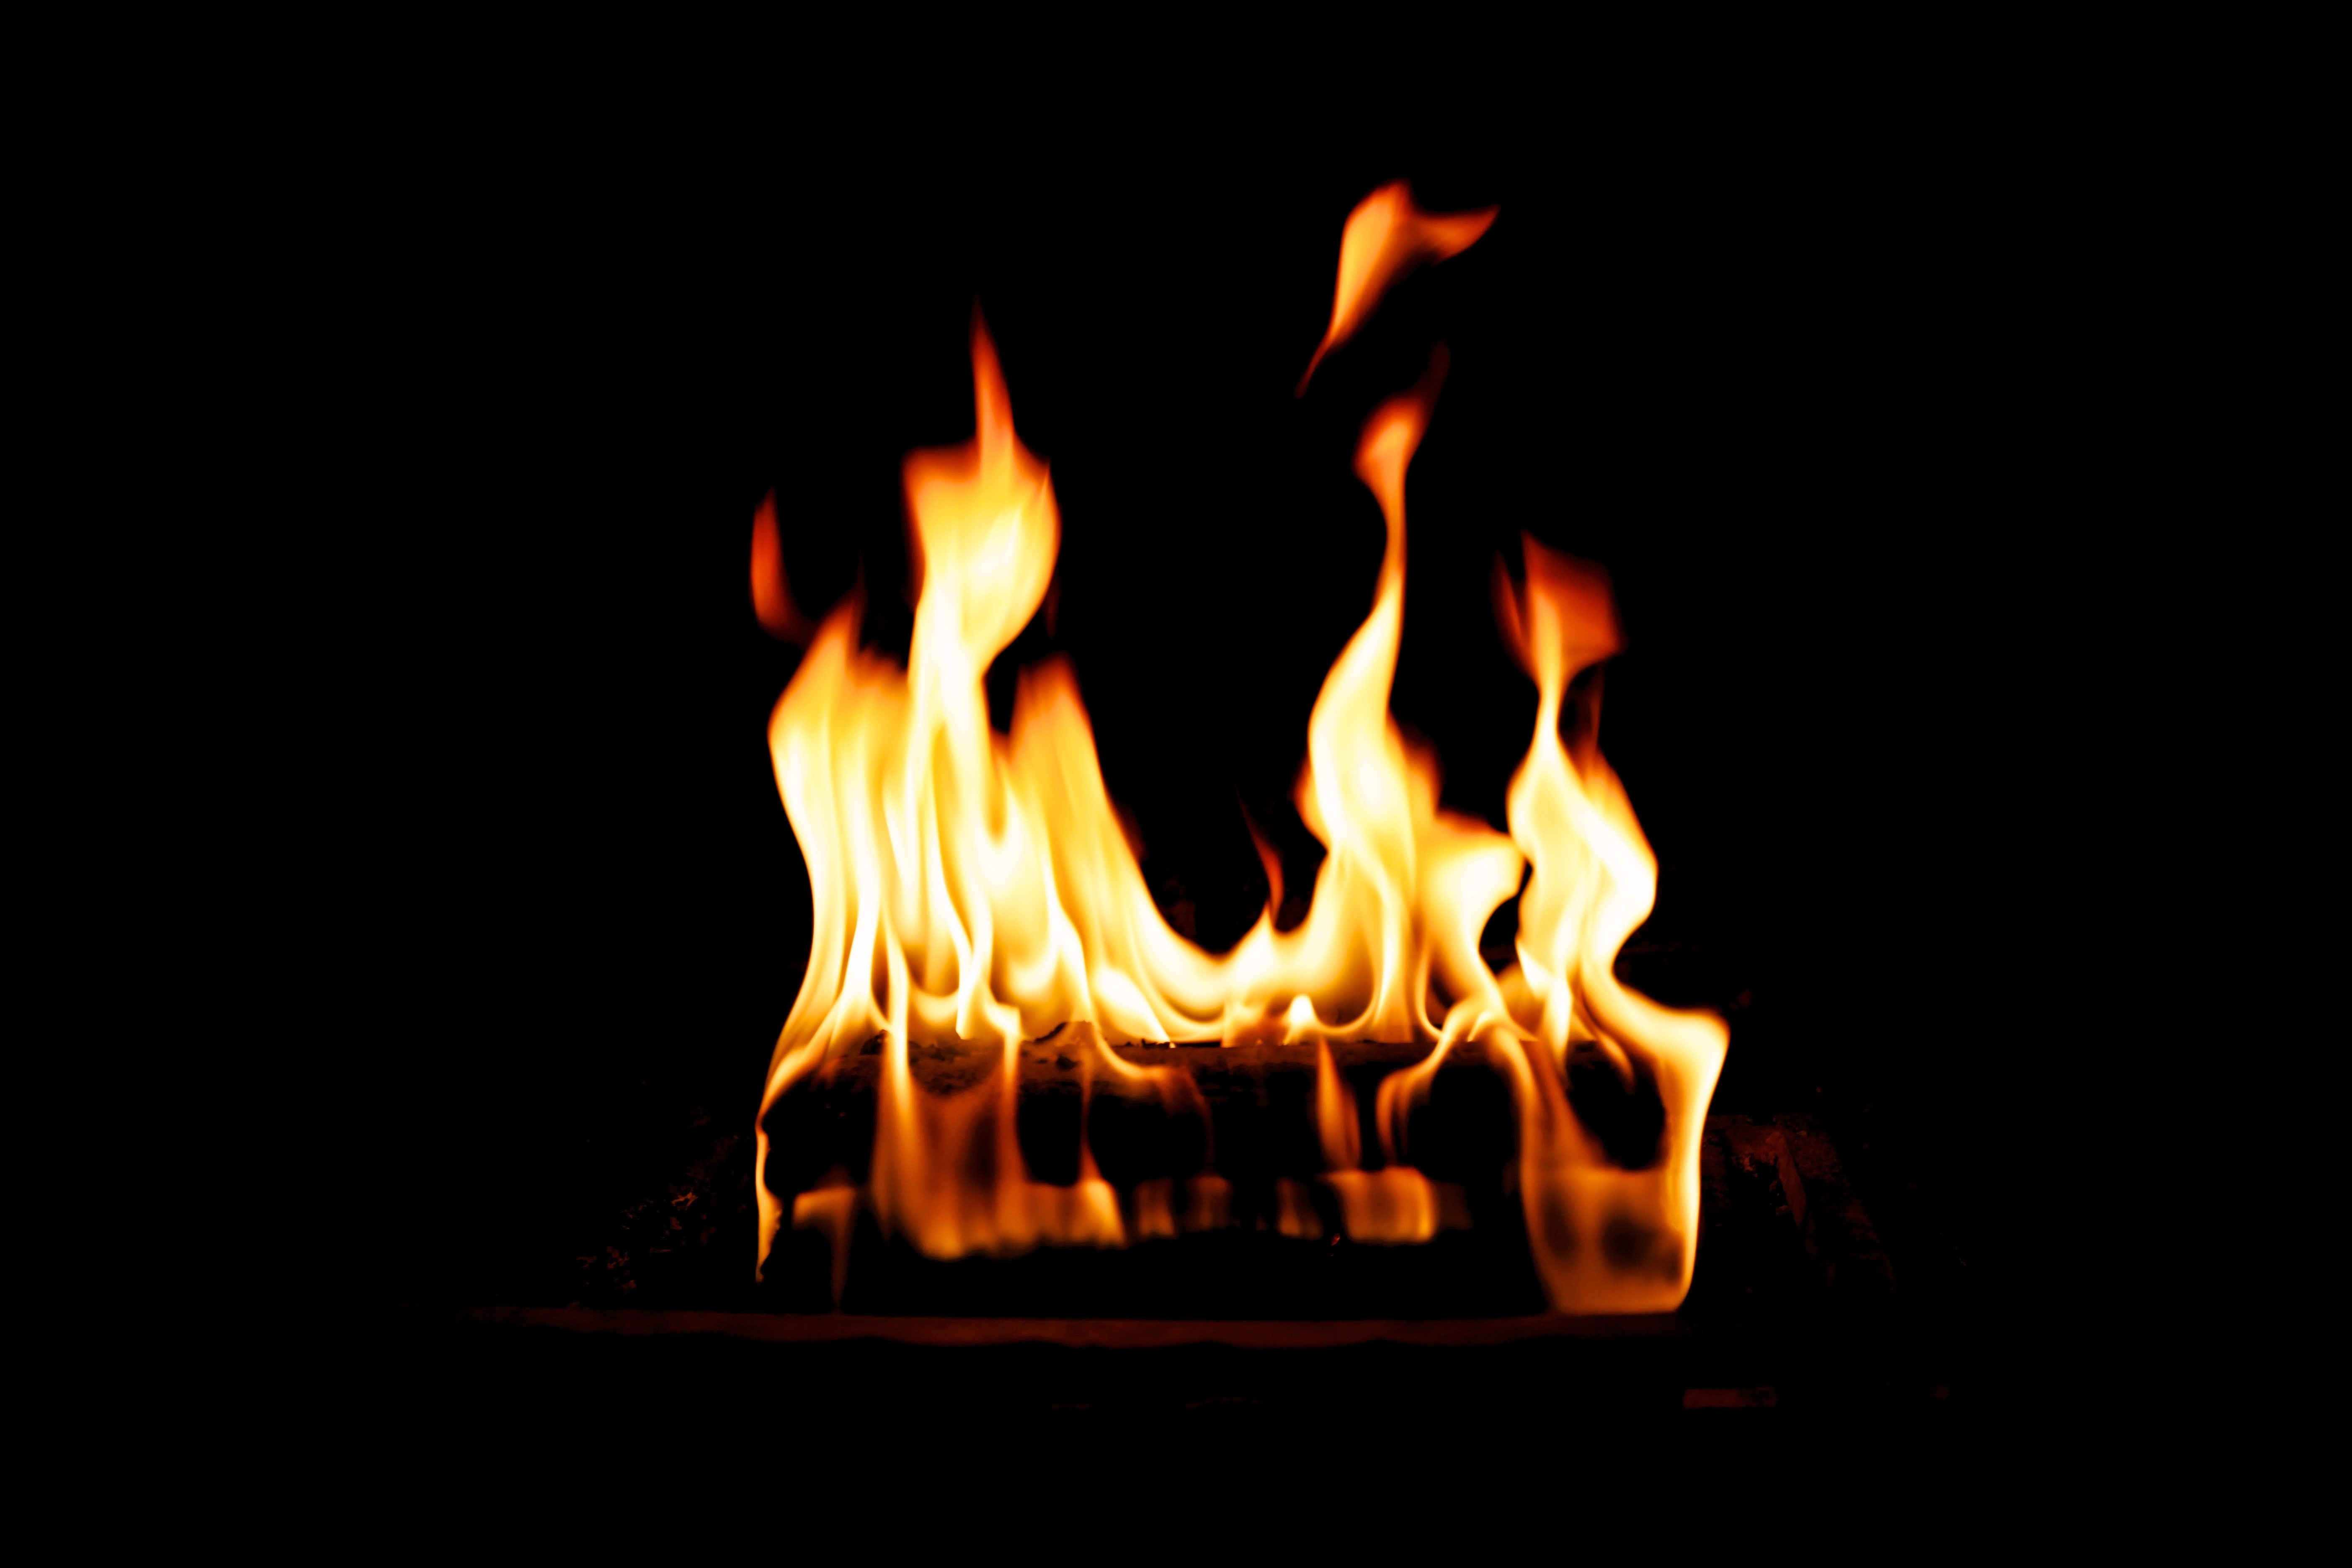fire: (700, 182, 1764, 1288)
